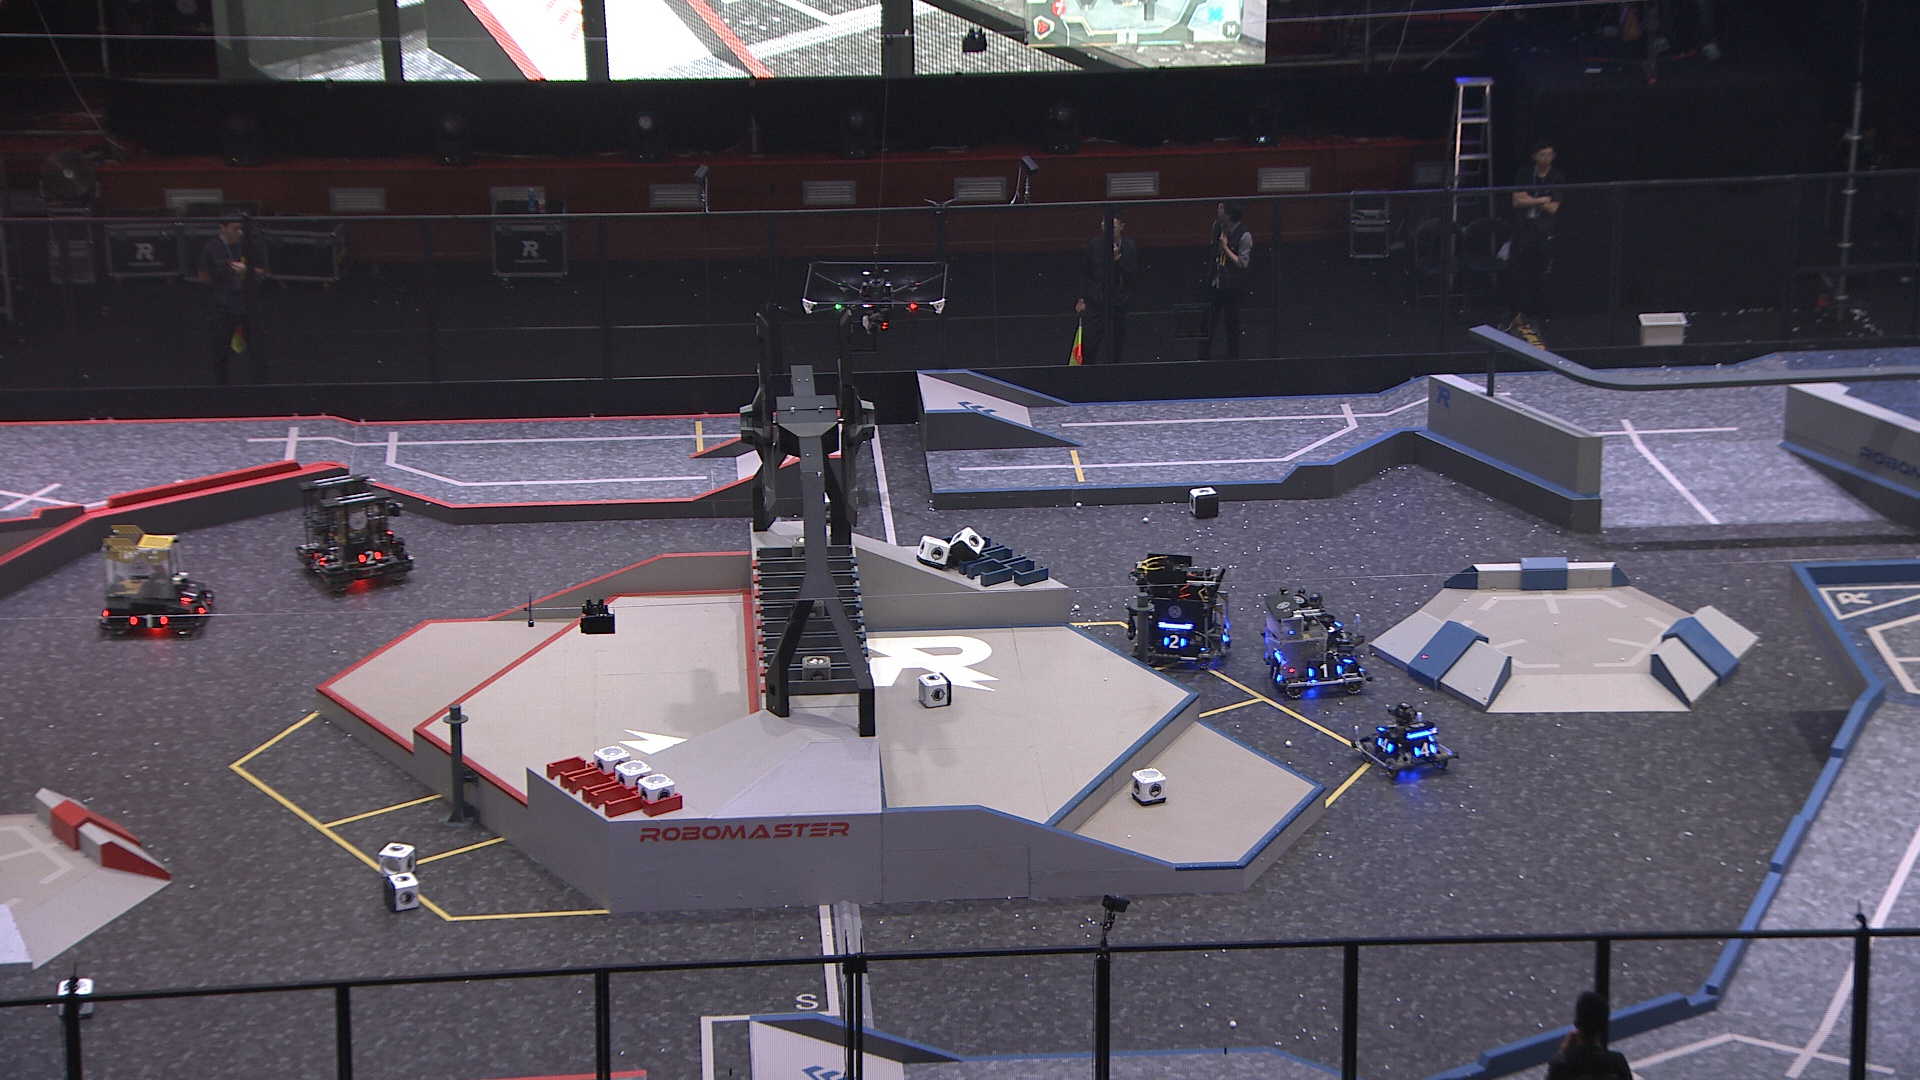armor: (125, 612, 167, 632), (1307, 662, 1344, 678), (353, 547, 384, 566), (1335, 647, 1354, 669), (1163, 636, 1188, 651), (181, 583, 200, 603), (1375, 733, 1394, 754), (1414, 744, 1436, 760), (196, 593, 210, 618), (310, 551, 327, 567), (1269, 665, 1280, 687), (1377, 721, 1400, 732), (1221, 622, 1232, 644), (1324, 621, 1342, 633)
car: (291, 462, 418, 593), (1255, 582, 1370, 702), (1122, 550, 1236, 670), (96, 524, 214, 638), (1354, 702, 1460, 781)
